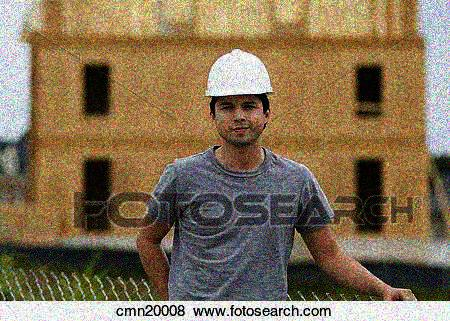helmet: (204, 48, 275, 150)
